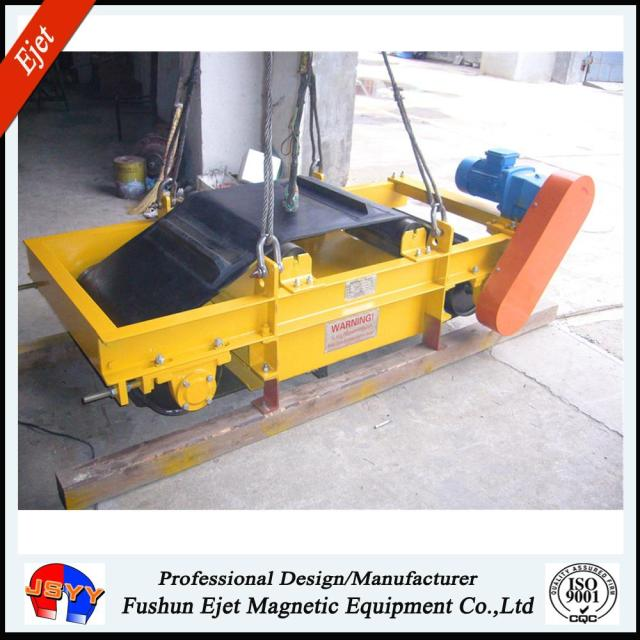conveyor: (12, 119, 607, 399)
